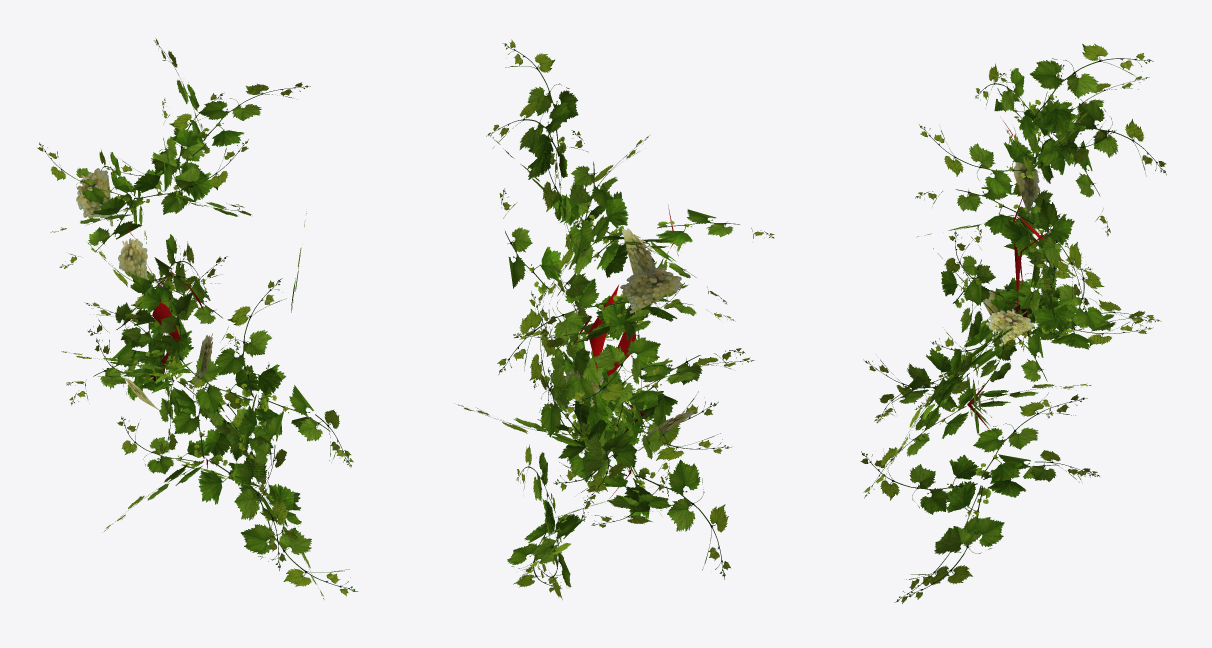
File: grape1 lod3.FBX
3 renders of one model, left to right at view 1: azimuth 30°, elevation 25°; view 2: azimuth 150°, elevation 25°; view 3: azimuth 270°, elevation 25°, orthographic. The views are drawn at different scales.
Parts seen in each view (by area): view 1: grape_plant003; view 2: grape_plant003; view 3: grape_plant003.
Boxes of the visible parts, x1,y1,x2,y2 form: grape_plant003: [37, 38, 358, 599]; grape_plant003: [458, 39, 774, 599]; grape_plant003: [860, 43, 1166, 603].
Size of the model in its own units: 25561 by 45390 by 26340.
